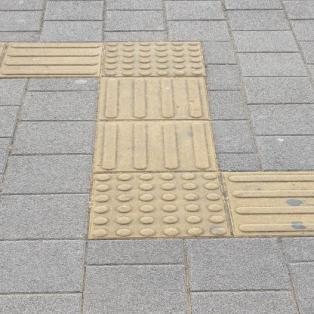Podoctatil: (0, 38, 313, 243)
